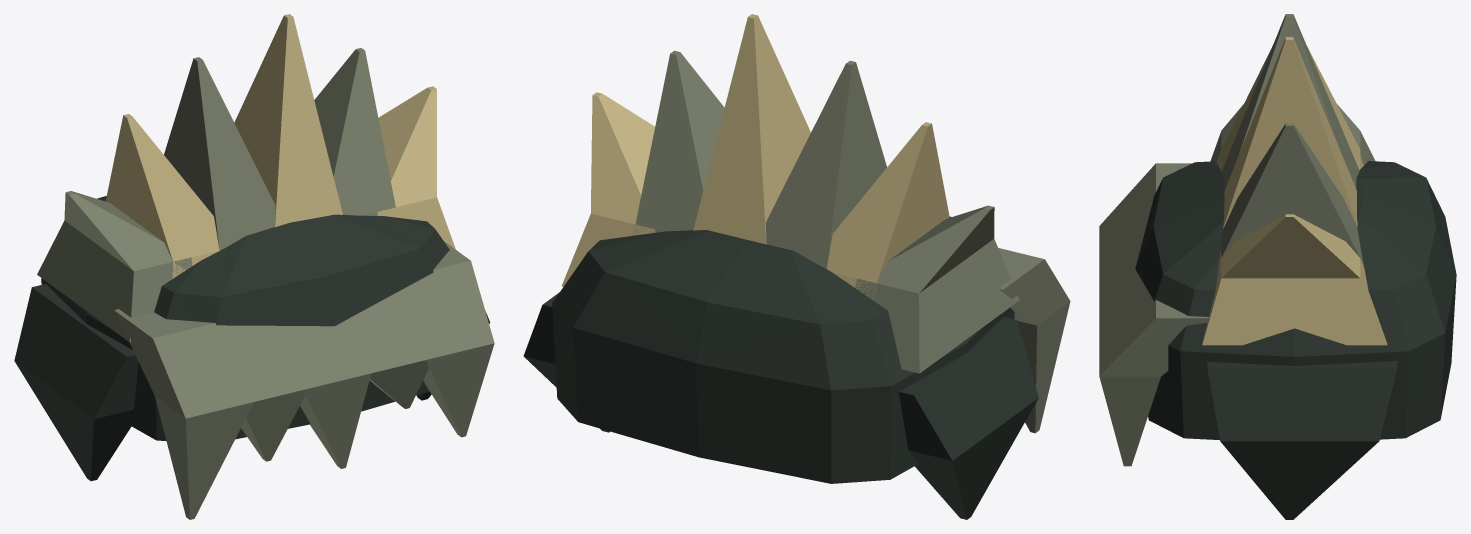
The model's file is hair-iron-spikes-v1.fbx.
3 views of the same model, side by side, from view 1: azimuth 30°, elevation 25°; view 2: azimuth 150°, elevation 25°; view 3: azimuth 270°, elevation 25° (orthographic). The views are drawn at different scales.
Parts seen in each view (by area): view 1: hair-iron-spikes-v1; view 2: hair-iron-spikes-v1; view 3: hair-iron-spikes-v1.
Boxes of the visible parts, <box> form: hair-iron-spikes-v1: <box>14,14,494,519</box>; hair-iron-spikes-v1: <box>523,14,1070,519</box>; hair-iron-spikes-v1: <box>1099,14,1456,519</box>.
Bounding box in the file's own units: 178 × 178 × 139.
Materials: 1 (1 with a texture image).
